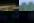anvil: (0, 0, 19, 11)
